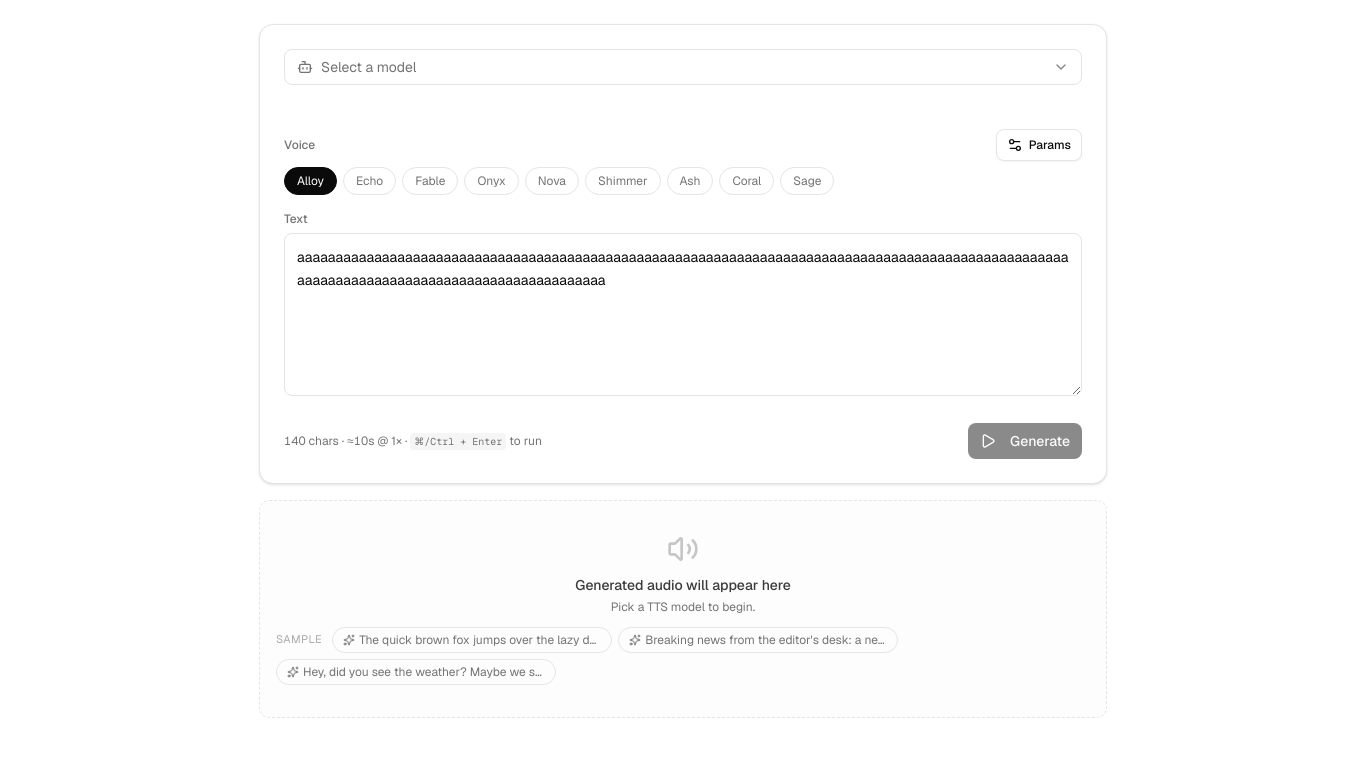
Test: SpeechPlayground — params popover › the speed slider updates the estimate hint and the popover label
Expected: the text "10" is shown, [354,432,368,448]
Click the button "Params": (1039,145) [996,129,1082,161]
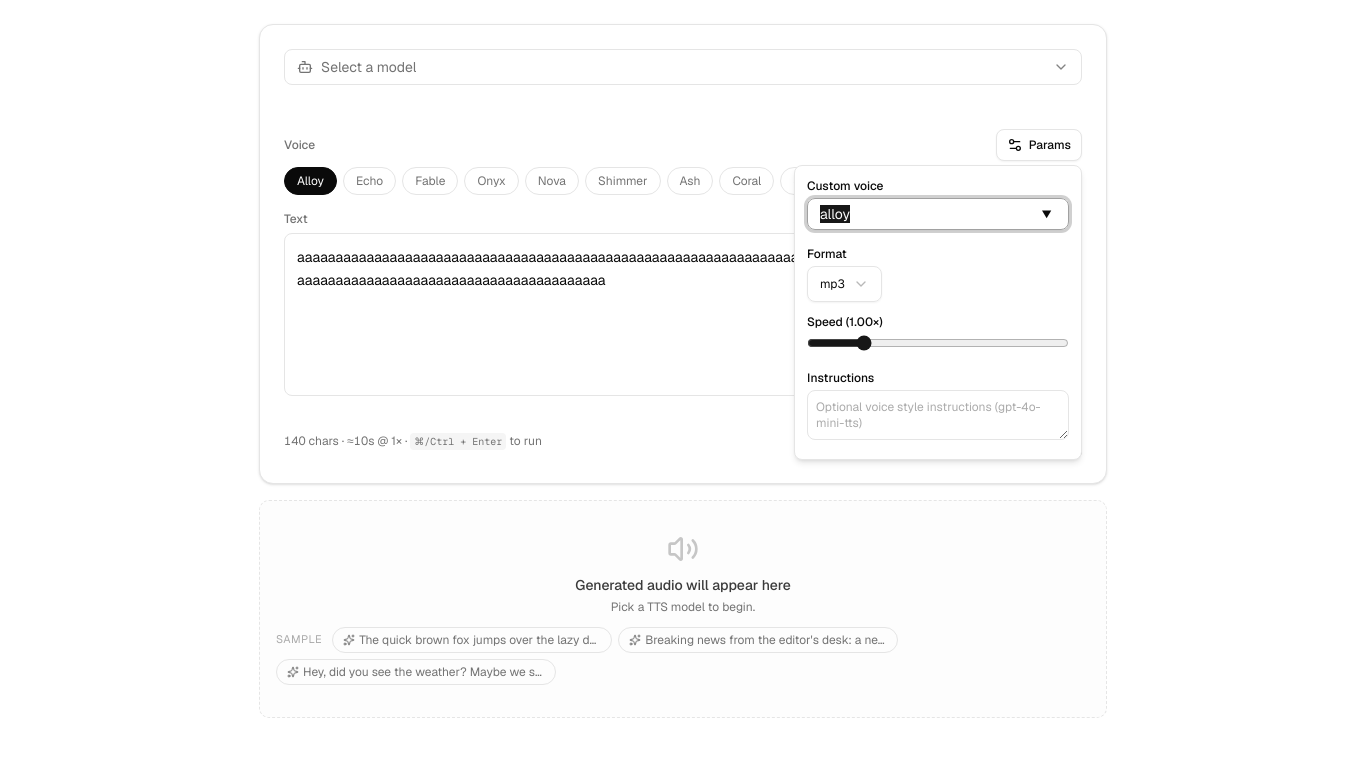
Set the slider to "2": (930,343) [807,335,1069,351]
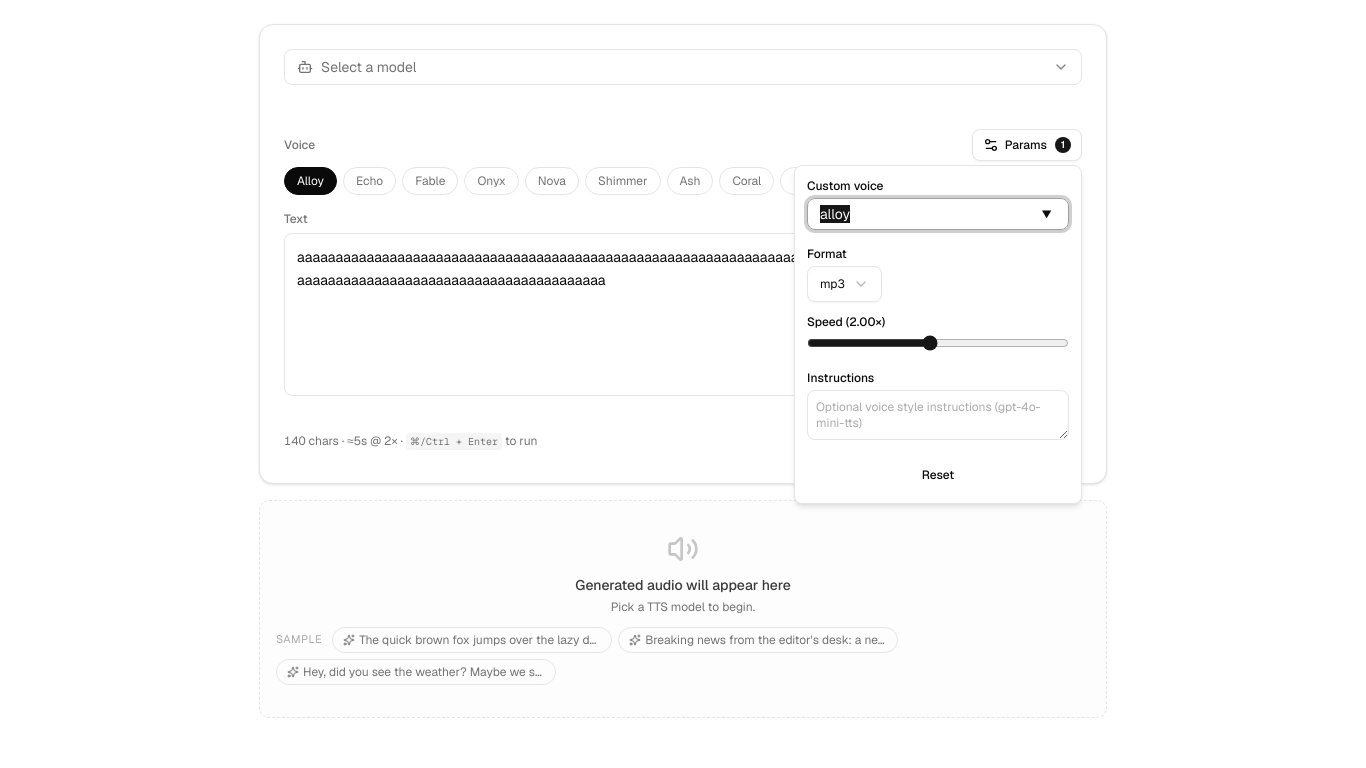
Result: the text "5" is shown at [354,432,361,448]
